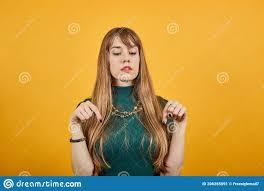Point-Down: (70, 100, 102, 138), (160, 99, 188, 136)
